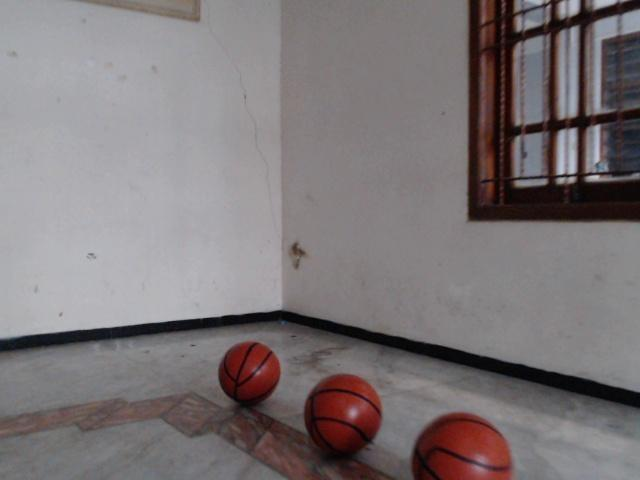Sports-Ball: (297, 366, 390, 458), (408, 410, 513, 480), (217, 342, 282, 406)
